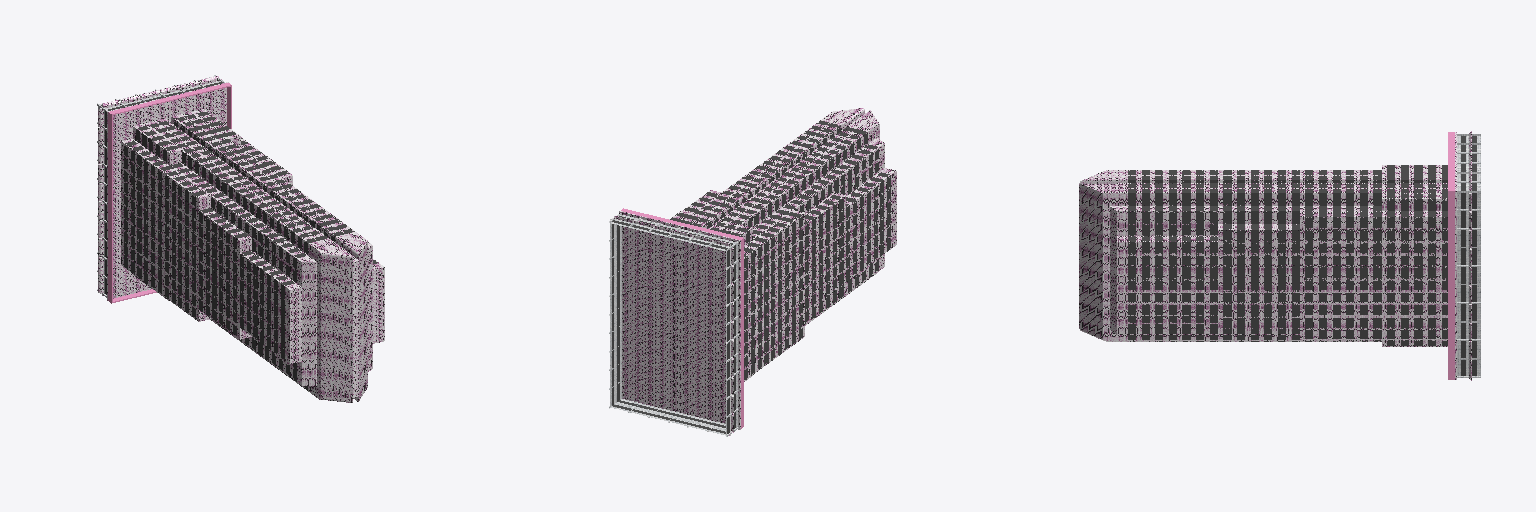
3 views of the same model, side by side, from view 1: azimuth 30°, elevation 25°; view 2: azimuth 150°, elevation 25°; view 3: azimuth 270°, elevation 25° (orthographic).
Visible parts, largest first — view 1: Glaz_02, Wall_11, Wall_02, Wall_03, Railing_01, Roof_01, Wall_04; view 2: Wall_11, Glaz_02, Wall_02, Glaz_01, Wall_03, wall_1_01, wall_1_02, Railing_01, Cols_01; view 3: Glaz_02, Wall_02, Wall_11, Wall_03, Glaz_01, Railing_01, wall_1_01, wall_1_02, Wall_09, Wall_04, Cols_01.
Boxes of the visible parts, box(x1,y1,x2,y2) form: Glaz_02: box(124, 112, 377, 390); Wall_11: box(113, 88, 384, 402); Wall_02: box(121, 109, 383, 394); Wall_03: box(121, 115, 343, 348); Railing_01: box(108, 83, 230, 303); Roof_01: box(98, 109, 103, 293); Wall_04: box(121, 137, 292, 318); Wall_11: box(619, 108, 883, 429); Glaz_02: box(671, 120, 890, 379); Wall_02: box(673, 117, 896, 377); Glaz_01: box(612, 216, 735, 433); Wall_03: box(690, 121, 893, 345); wall_1_01: box(610, 219, 730, 435); wall_1_02: box(620, 215, 737, 427); Railing_01: box(621, 208, 743, 428); Cols_01: box(609, 213, 738, 436); Glaz_02: box(1128, 165, 1447, 345); Wall_02: box(1117, 165, 1441, 345); Wall_11: box(1079, 170, 1116, 341); Wall_03: box(1122, 175, 1447, 304); Glaz_01: box(1461, 136, 1476, 375); Railing_01: box(1448, 132, 1454, 379); wall_1_01: box(1466, 136, 1480, 375); wall_1_02: box(1457, 136, 1460, 375); Wall_09: box(1218, 240, 1447, 317); Wall_04: box(1300, 211, 1447, 340); Cols_01: box(1457, 134, 1480, 377).
Bounding box in the file's own units: 1258 × 1870 × 3528.
6 materials, 2 textured.